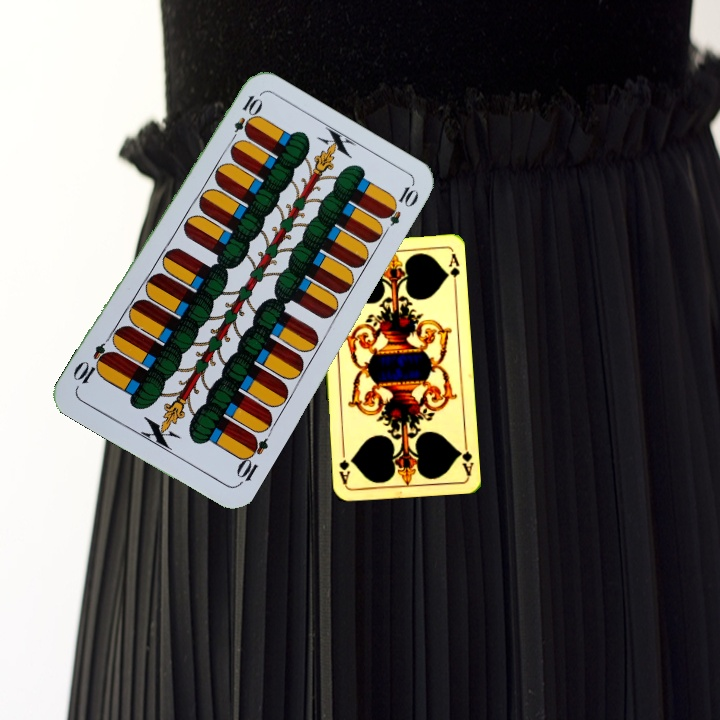E10: (232, 431, 271, 488), (225, 91, 263, 147)
GA: (454, 437, 475, 477)
